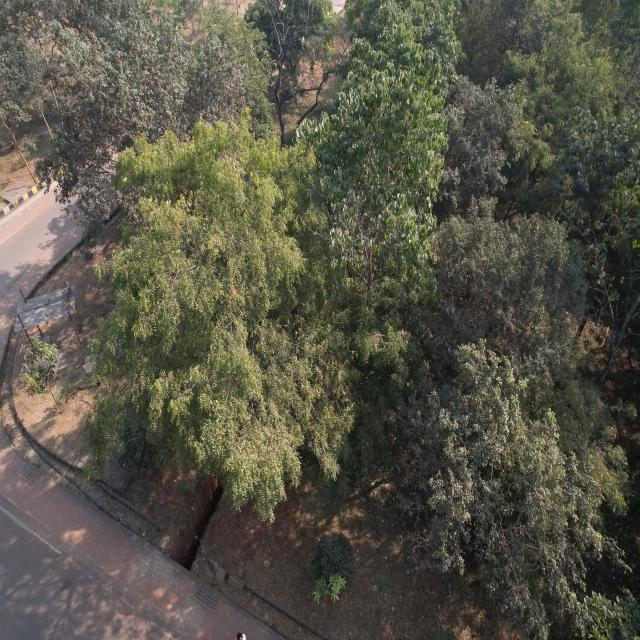Neem-Tree: (110, 152, 303, 486)
